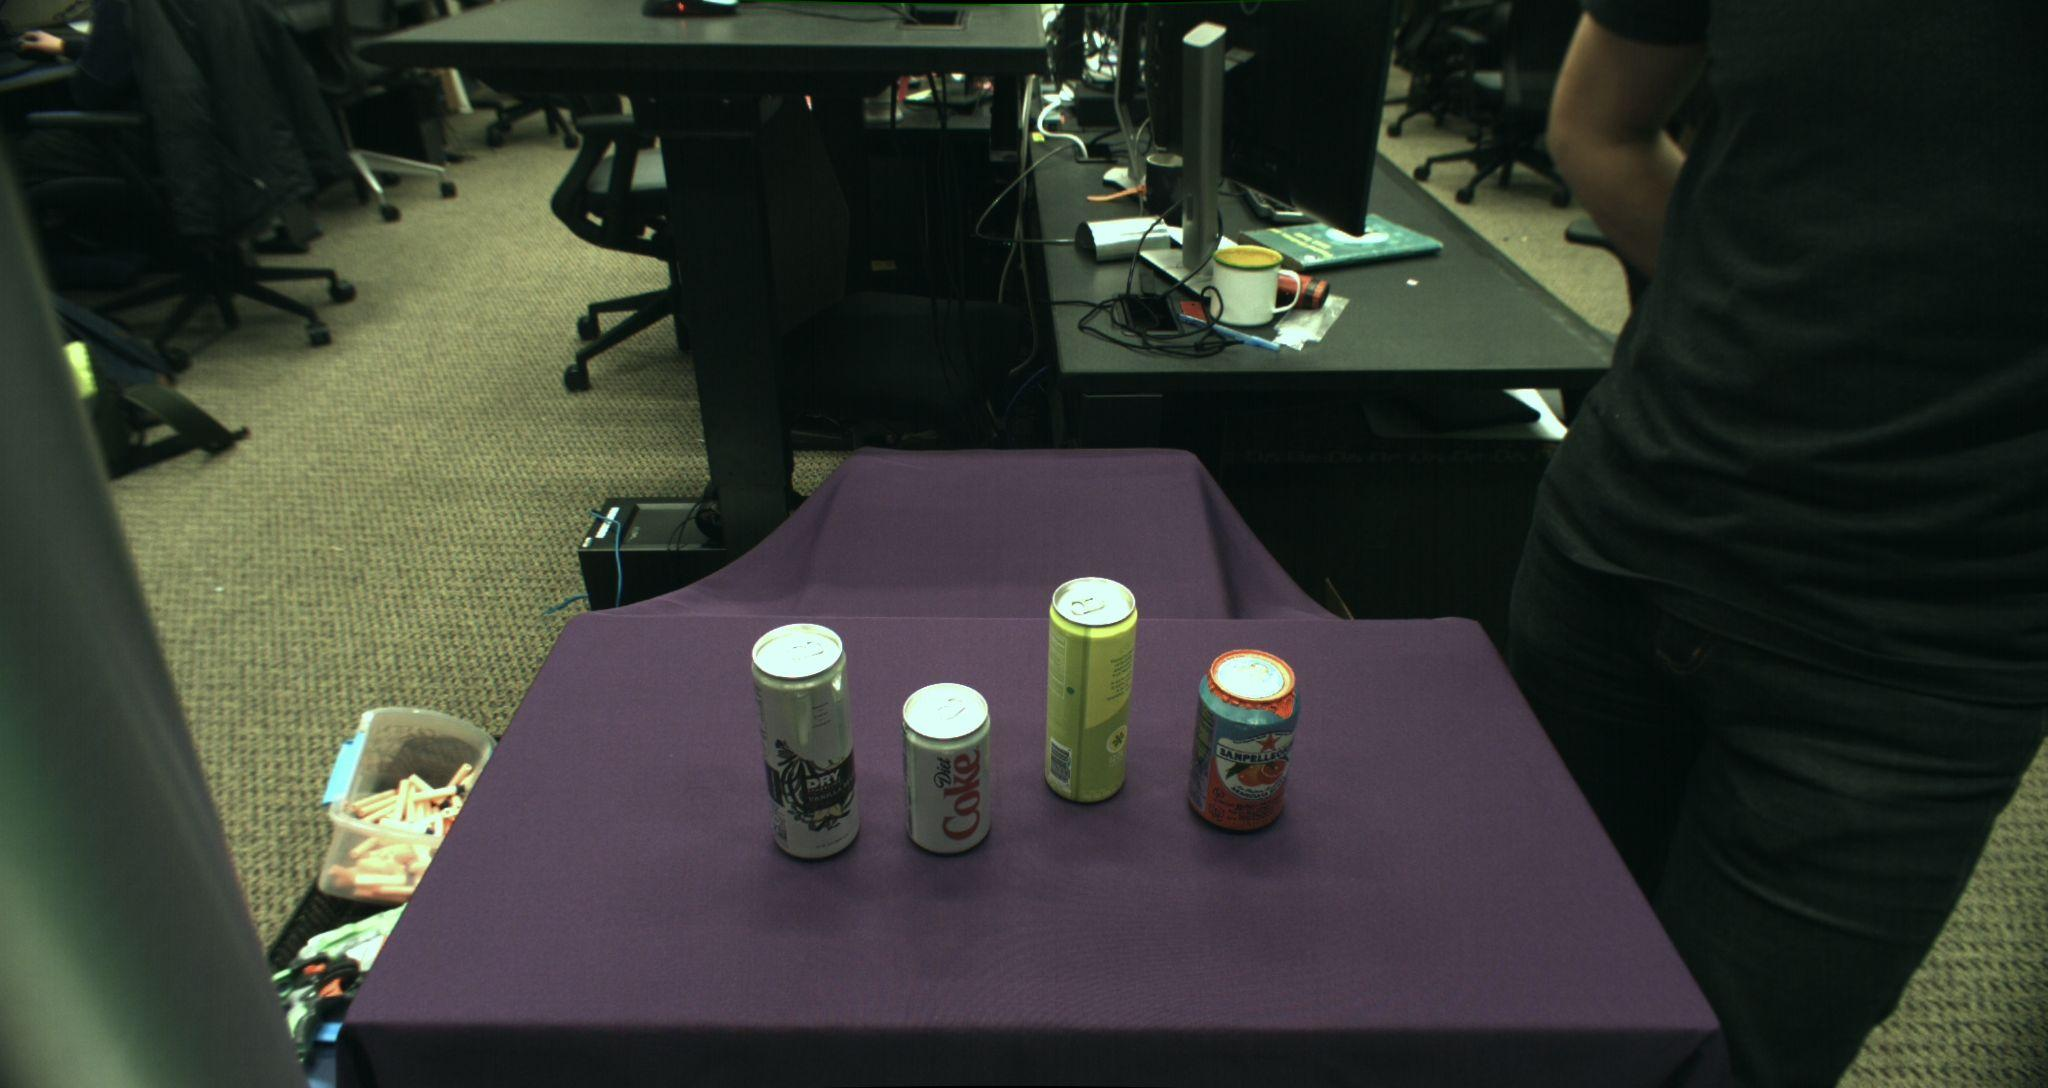can_diet_coke_small: (899, 682, 991, 856)
can_dry_sparkling_vanilla_bean: (748, 621, 861, 860)
can_izze_fusions_lemon_lime: (1043, 574, 1138, 803)
can_sanpellegrino_blood_orange: (1187, 648, 1300, 832)
